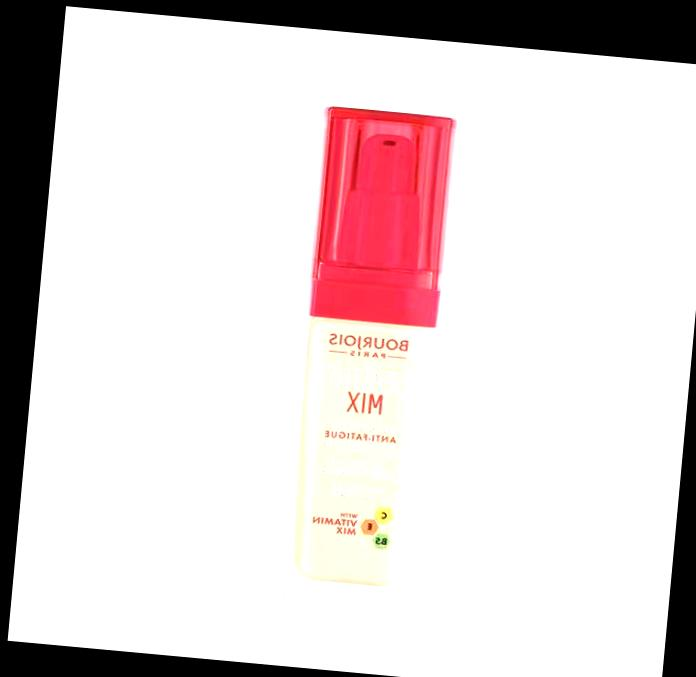cosmetic: (273, 106, 462, 623)
